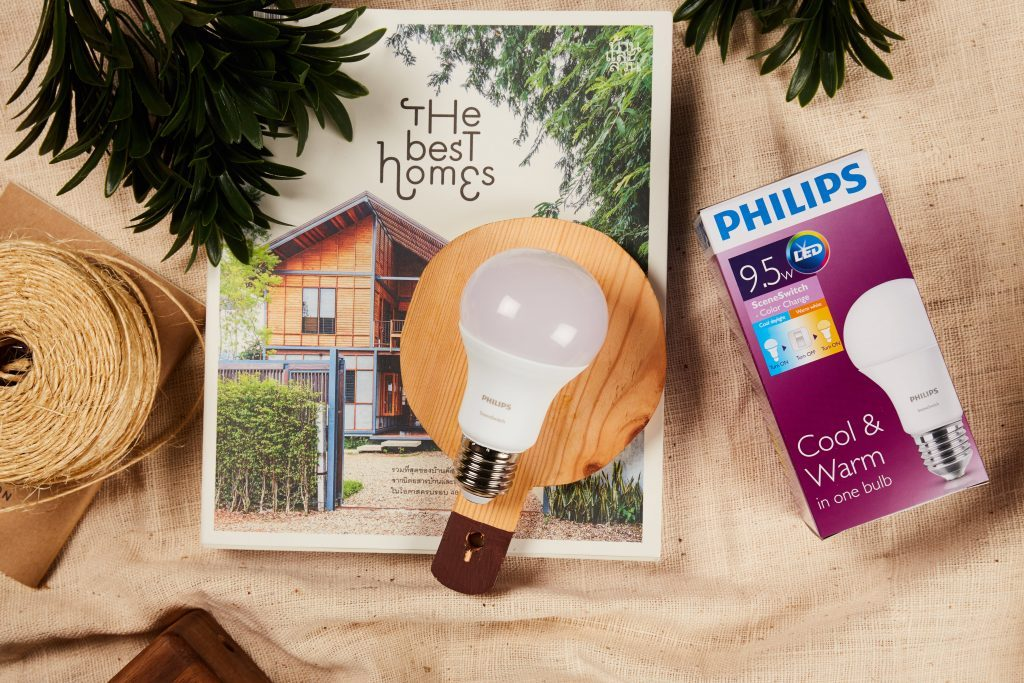Light_bulb: (439, 244, 615, 515)
